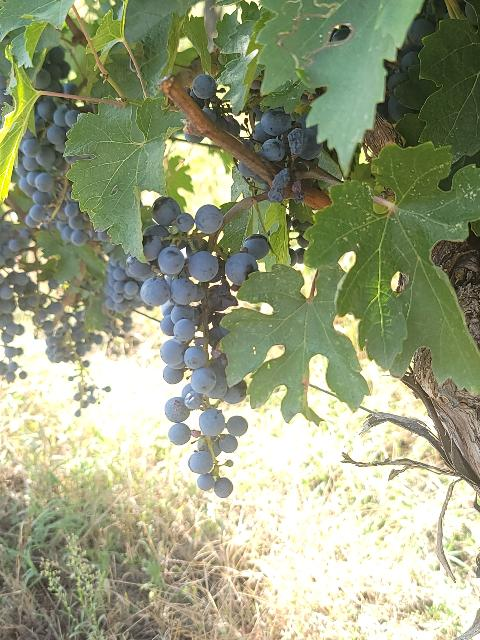grapes: (140, 198, 269, 498), (0, 222, 30, 358)
